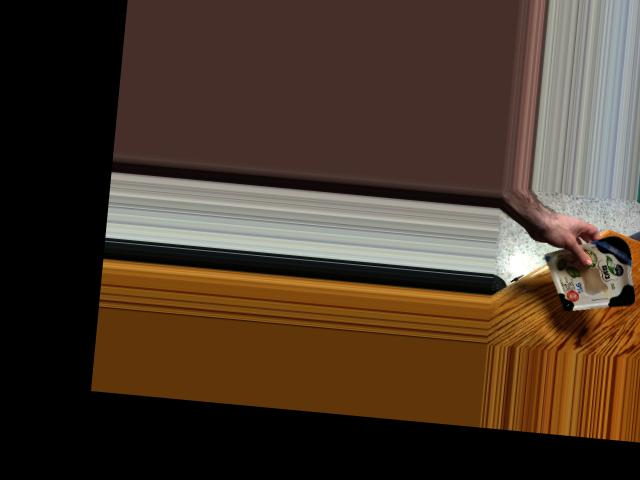cheese: (555, 234, 637, 315)
